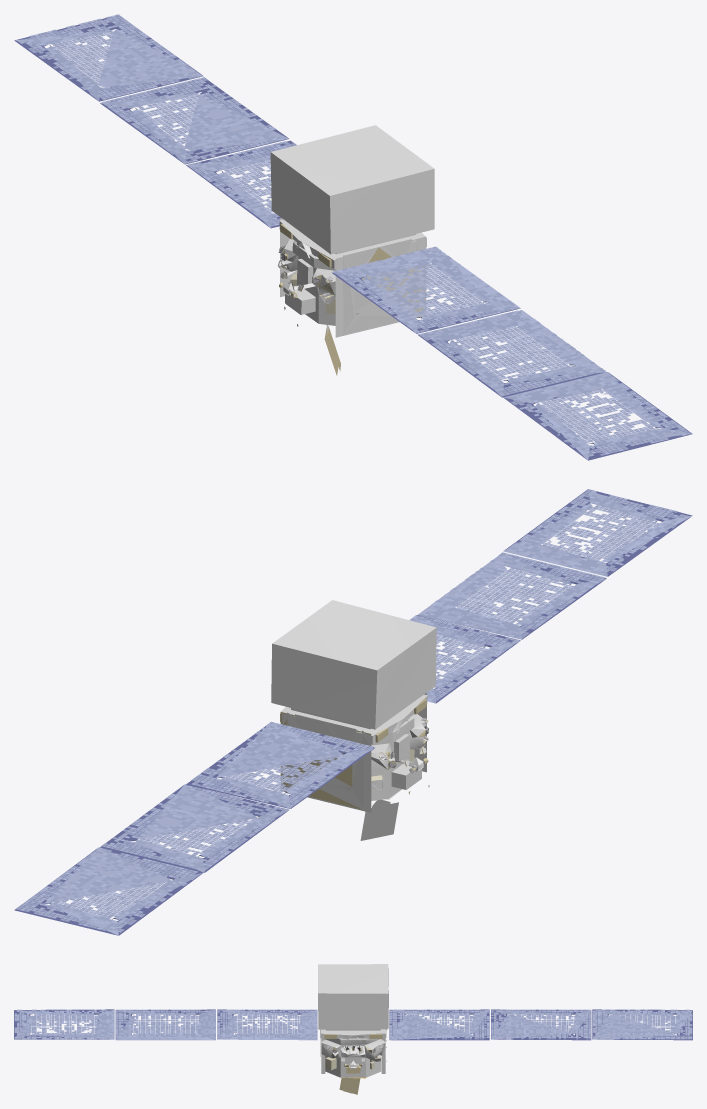
File: fermi.glb
3 renders of one model, top to bottom at view 1: azimuth 30°, elevation 25°; view 2: azimuth 150°, elevation 25°; view 3: azimuth 270°, elevation 25°, orthographic. The views are drawn at different scales.
Parts seen in each view (by area): view 1: solar-panel, body, foil; view 2: solar-panel, body, foil; view 3: solar-panel, body, foil.
Boxes of the visible parts, left/top/right/bottom form: solar-panel: left=14, top=14, right=692, bottom=460; body: left=270, top=125, right=434, bottom=375; foil: left=280, top=239, right=419, bottom=334; solar-panel: left=14, top=489, right=692, bottom=935; body: left=271, top=600, right=436, bottom=840; foil: left=287, top=713, right=426, bottom=809; solar-panel: left=14, top=1009, right=692, bottom=1040; body: left=318, top=964, right=388, bottom=1094; foil: left=321, top=1039, right=385, bottom=1078.
Size of the model in its own units: 8.52 by 12.07 by 62.31.
